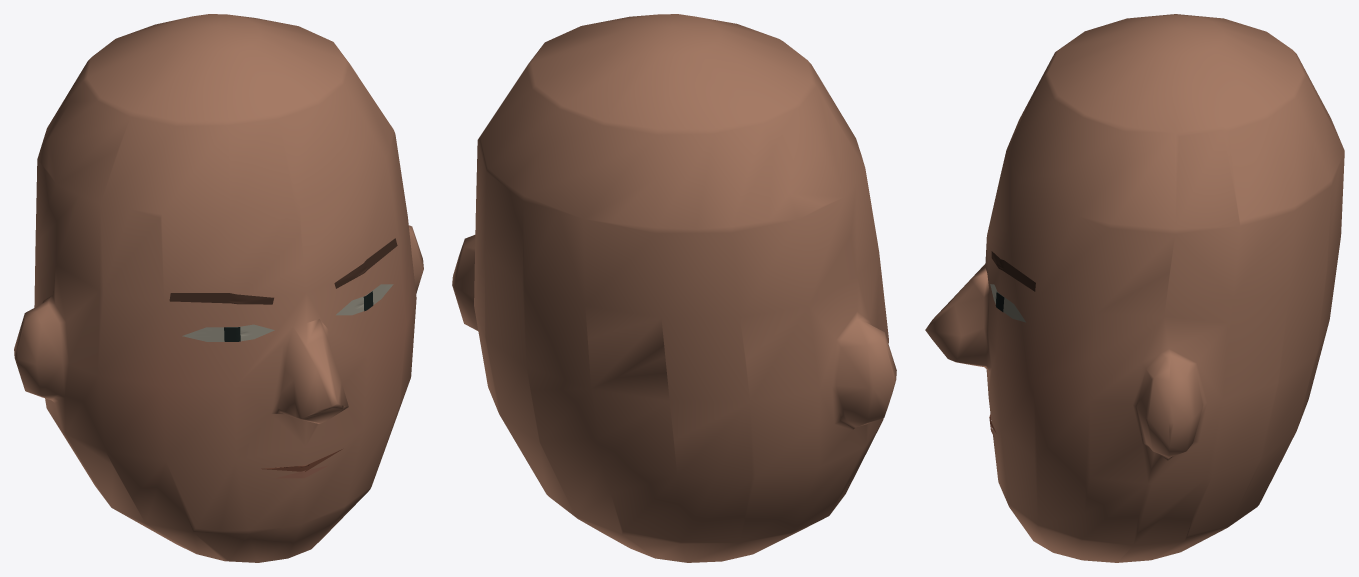
Rendered from face_01_soft.glb.
3 views of the same model, side by side, from view 1: azimuth 30°, elevation 25°; view 2: azimuth 150°, elevation 25°; view 3: azimuth 270°, elevation 25° (orthographic). The views are drawn at different scales.
Parts seen in each view (by area): view 1: Face_01_Soft; view 2: Face_01_Soft; view 3: Face_01_Soft.
Boxes of the visible parts, x1,y1,x2,y2 form: Face_01_Soft: (14,14,423,562); Face_01_Soft: (452,14,896,562); Face_01_Soft: (925,14,1344,562).
Size of the model in its own units: 0.2466 by 0.2781 by 0.2115.
